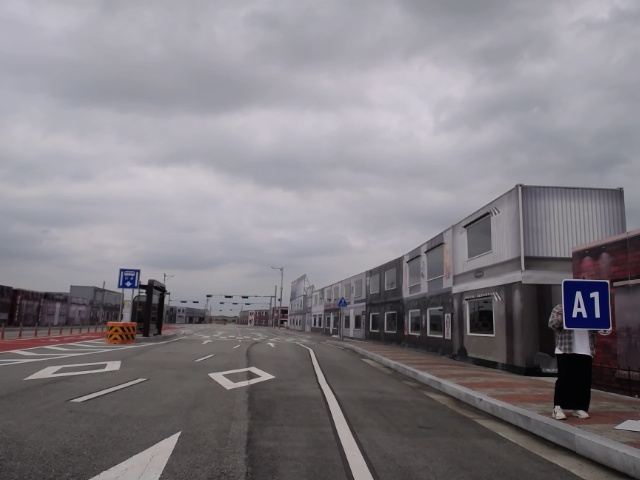delivery_a1: (562, 279, 612, 331)
